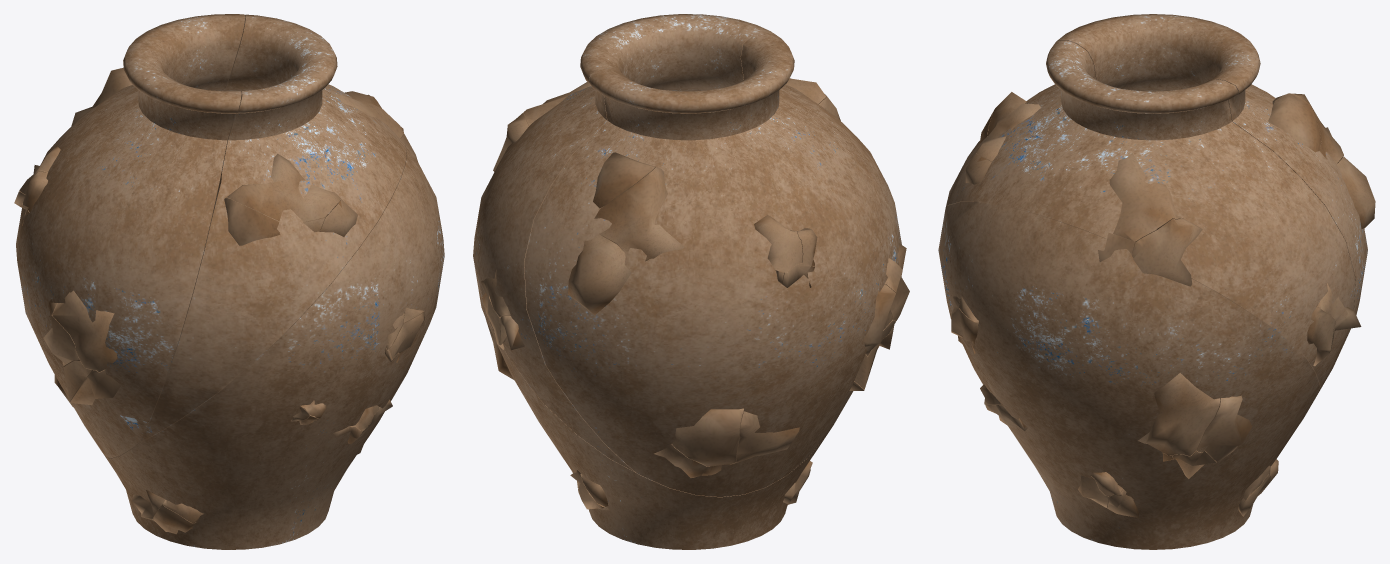
Rendered from Jar_With_Dragon_NoTexture_V1.fbx.
3 renders of one model, left to right at view 1: azimuth 30°, elevation 25°; view 2: azimuth 150°, elevation 25°; view 3: azimuth 270°, elevation 25°, orthographic.
Parts seen in each view (by area): view 1: Jar_Crack_3, Jar_Crack_2, Jar_Crack_1, Dirt_Jar_3_1_cell.001, Dirt_Jar_1_1_cell, Dirt_Jar_3_1_cell.003, Dirt_Jar_1_1_cell.001, Dirt_Jar_1_1_cell.003, Dirt_Jar_2_cell.001, Dirt_Jar_3_1_cell, Dirt_Jar_3_cell.001, Dirt_Jar_6_cell.002 (+4 smaller); view 2: Jar_Crack_3, Jar_Crack_1, Jar_Crack_2, Dirt_Jar_3_cell.001, Dirt_Jar_3_cell.002, Dirt_Jar_2_1_cell.003, Dirt_Jar_3_cell, Dirt_Jar_2_1_cell.002, Dirt_Jar_6_1_cell.003, Dirt_Jar_1_1_cell.003, Dirt_Jar_1_1_cell, Dirt_Jar_2_1_cell (+6 smaller); view 3: Jar_Crack_2, Jar_Crack_1, Jar_Crack_3, Dirt_Jar_1_cell.003, Dirt_Jar_2_cell.001, Dirt_Jar_2_cell, Dirt_Jar_1_cell.001, Dirt_Jar_3_cell, Dirt_Jar_3_1_cell.001, Dirt_Jar_3_cell.002, Dirt_Jar_4_cell, Dirt_Jar_3_cell.001 (+6 smaller).
Part boxes in pixels (x1,y1,x2,y2): Jar_Crack_3: (16,14,245,458); Jar_Crack_2: (105,145,444,549); Jar_Crack_1: (141,14,406,441); Dirt_Jar_3_1_cell.001: (227,153,340,221); Dirt_Jar_1_1_cell: (52,290,117,372); Dirt_Jar_3_1_cell.003: (224,197,279,245); Dirt_Jar_1_1_cell.001: (69,369,120,405); Dirt_Jar_1_1_cell.003: (43,299,79,366); Dirt_Jar_2_cell.001: (331,91,403,138); Dirt_Jar_3_1_cell: (320,199,357,236); Dirt_Jar_3_cell.001: (71,67,132,126); Dirt_Jar_6_cell.002: (389,311,424,358); Jar_Crack_3: (524,32,901,496); Jar_Crack_1: (473,14,859,471); Jar_Crack_2: (473,210,825,549); Dirt_Jar_3_cell.001: (594,167,684,261); Dirt_Jar_3_cell.002: (568,234,631,315); Dirt_Jar_2_1_cell.003: (671,408,743,466); Dirt_Jar_3_cell: (593,152,654,208); Dirt_Jar_2_1_cell.002: (736,411,799,462); Dirt_Jar_6_1_cell.003: (754,215,802,272); Dirt_Jar_1_1_cell.003: (862,284,895,356); Dirt_Jar_1_1_cell: (884,243,909,320); Dirt_Jar_2_1_cell: (654,444,706,477); Jar_Crack_2: (938,201,1319,549); Jar_Crack_1: (946,40,1355,394); Jar_Crack_3: (1041,14,1367,332); Dirt_Jar_1_cell.003: (1138,373,1220,456); Dirt_Jar_2_cell.001: (1109,153,1183,242); Dirt_Jar_2_cell: (1132,218,1202,286); Dirt_Jar_1_cell.001: (1196,395,1252,462); Dirt_Jar_3_cell: (1268,93,1321,152); Dirt_Jar_3_1_cell.001: (976,92,1040,161); Dirt_Jar_3_cell.002: (1336,157,1375,228); Dirt_Jar_4_cell: (1307,307,1335,366); Dirt_Jar_3_cell.001: (1272,93,1343,164).
Size of the model in its own units: 186 by 212 by 185.
